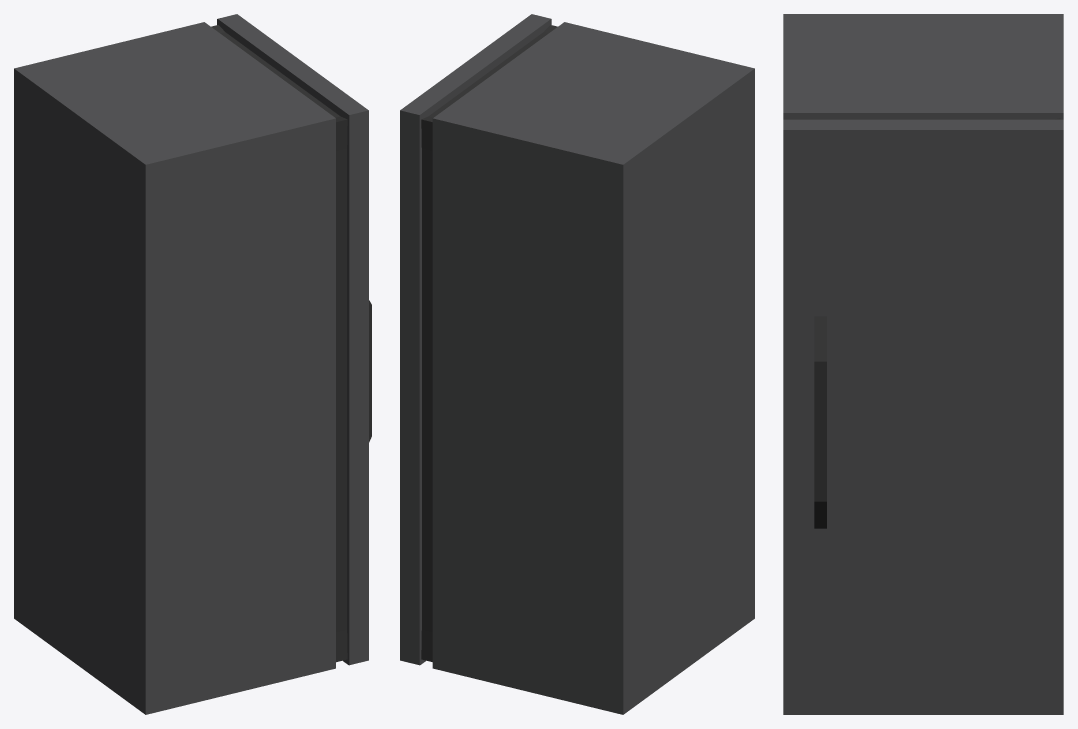
Rendered from fridge.glb.
3 renders of one model, left to right at view 1: azimuth 30°, elevation 25°; view 2: azimuth 150°, elevation 25°; view 3: azimuth 270°, elevation 25°, orthographic. The views are drawn at different scales.
Parts seen in each view (by area): view 1: Cube (×2), Cube.001; view 2: Cube (×2), Cube.001; view 3: Cube.001, Cube, Cube.002.
Part boxes in pixels (<box>): Cube (×2): <box>14,19,348,714</box>; Cube.001: <box>218,14,368,665</box>; Cube (×2): <box>420,19,754,714</box>; Cube.001: <box>400,14,550,665</box>; Cube.001: <box>783,119,1063,714</box>; Cube: <box>783,14,1063,119</box>; Cube.002: <box>814,316,826,528</box>.
Size of the model in its own units: 3.83 by 8.36 by 3.63.
Materials: 2 (1 with a texture image).
